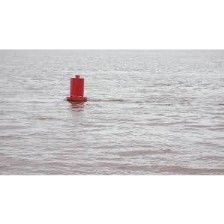buoy: (65, 77, 88, 101)
